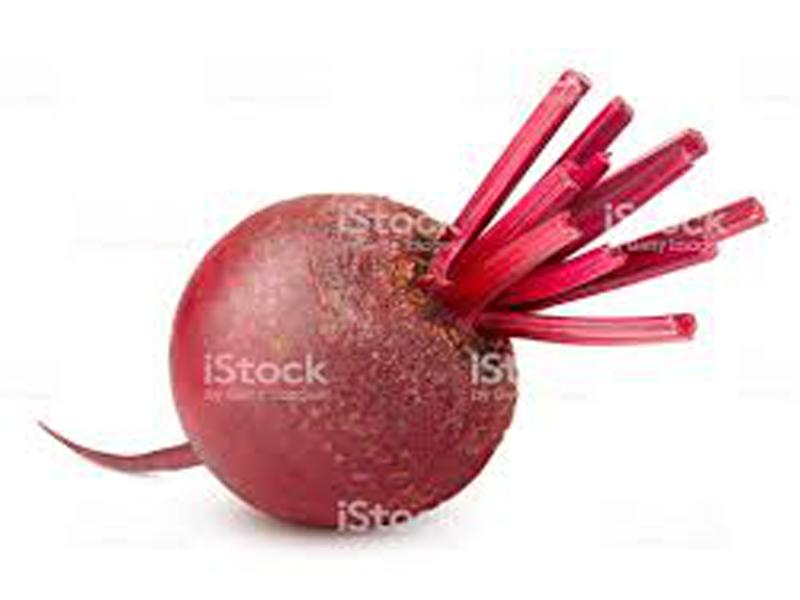Beet: (38, 72, 765, 525)
